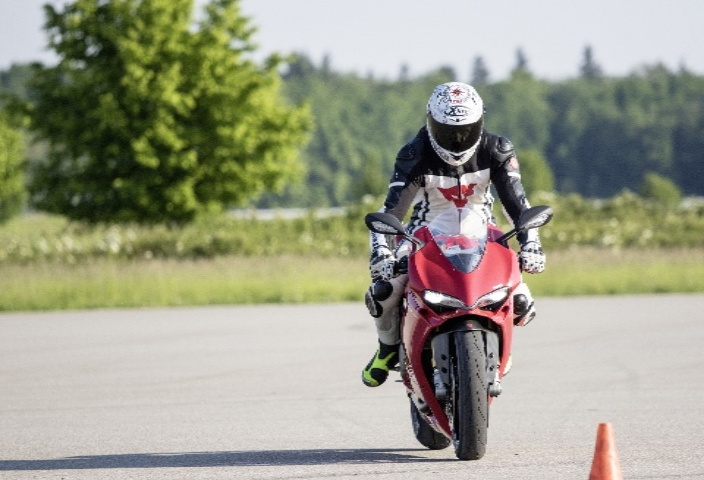motorcycle: (294, 71, 571, 476)
